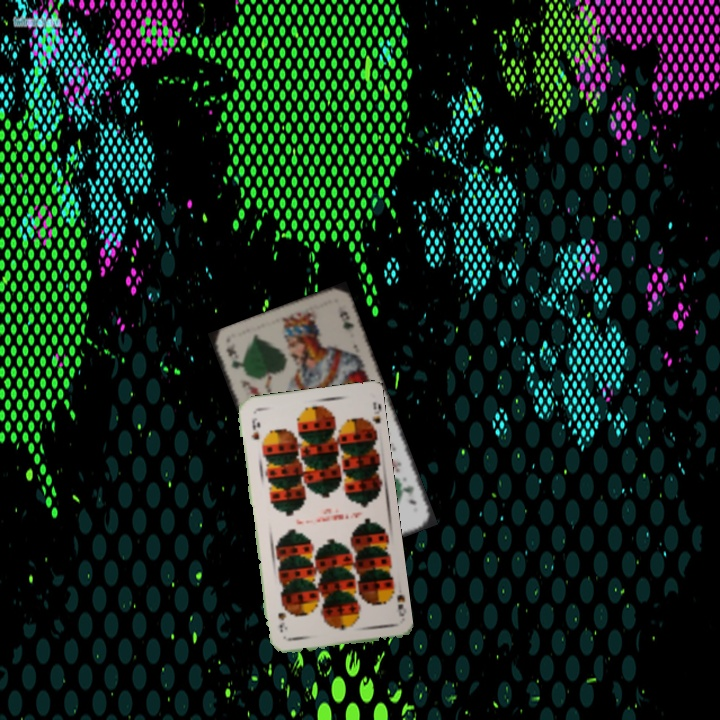GK: (222, 340, 245, 371), (399, 481, 419, 508)
S9: (386, 583, 407, 619), (247, 414, 262, 442)
